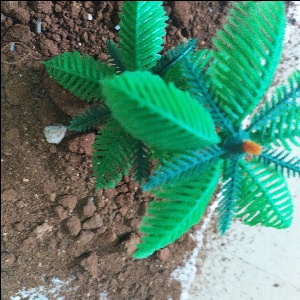plant: (126, 13, 300, 255), (39, 9, 183, 182)
